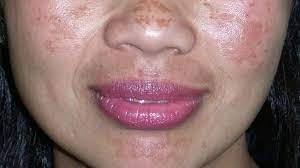Melasma: (205, 0, 269, 70), (113, 137, 175, 168), (43, 7, 88, 49), (133, 0, 174, 28)
